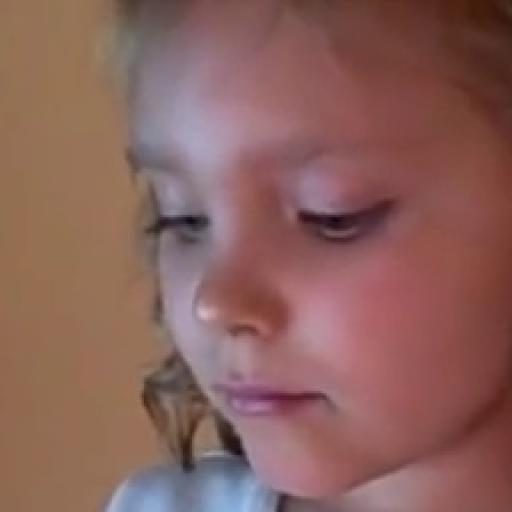Autism: (114, 0, 512, 512)
